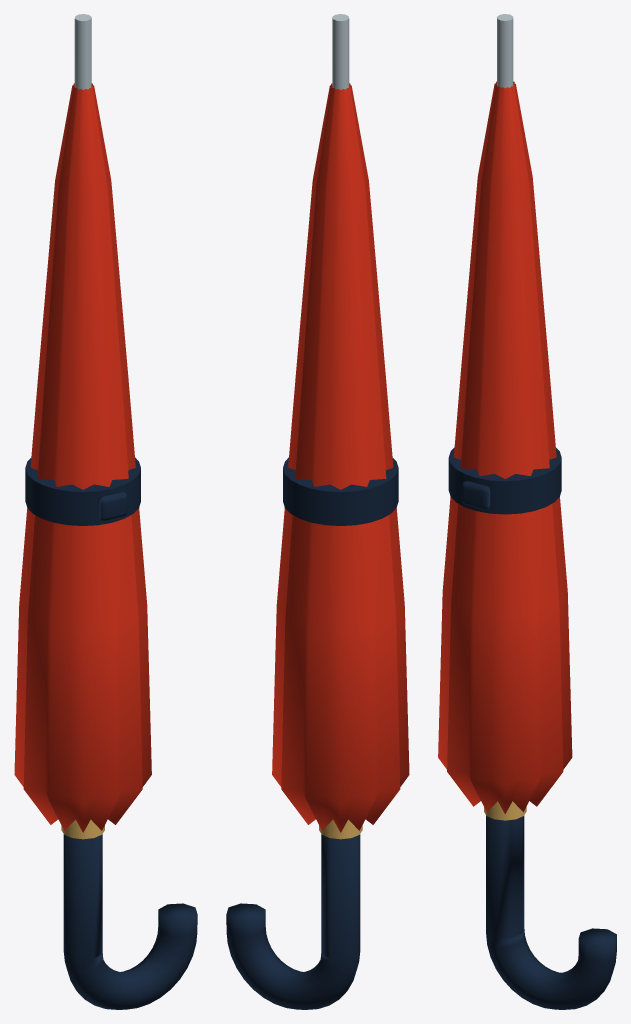
Rendered from 02_Folded_Umbrella.glb.
The picture shows the model from 3 angles, left to right: view 1: azimuth 30°, elevation 25°; view 2: azimuth 150°, elevation 25°; view 3: azimuth 330°, elevation 25°; orthographic projection. The views are drawn at different scales.
Visible parts, largest first — view 1: 02_Folded_Umbrella_EXPORT; view 2: 02_Folded_Umbrella_EXPORT; view 3: 02_Folded_Umbrella_EXPORT.
Part boxes in pixels (x1,y1,x2,y2): 02_Folded_Umbrella_EXPORT: (14,14,197,1009); 02_Folded_Umbrella_EXPORT: (226,14,409,1009); 02_Folded_Umbrella_EXPORT: (438,14,616,1009).
Bounding box in the file's own units: 0.254 × 1.42 × 0.176.
